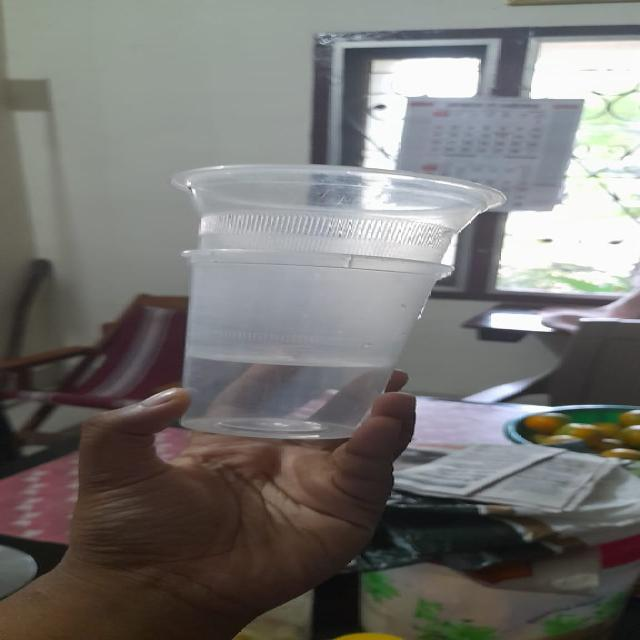Plastic - Recyclable: (165, 162, 509, 440)
